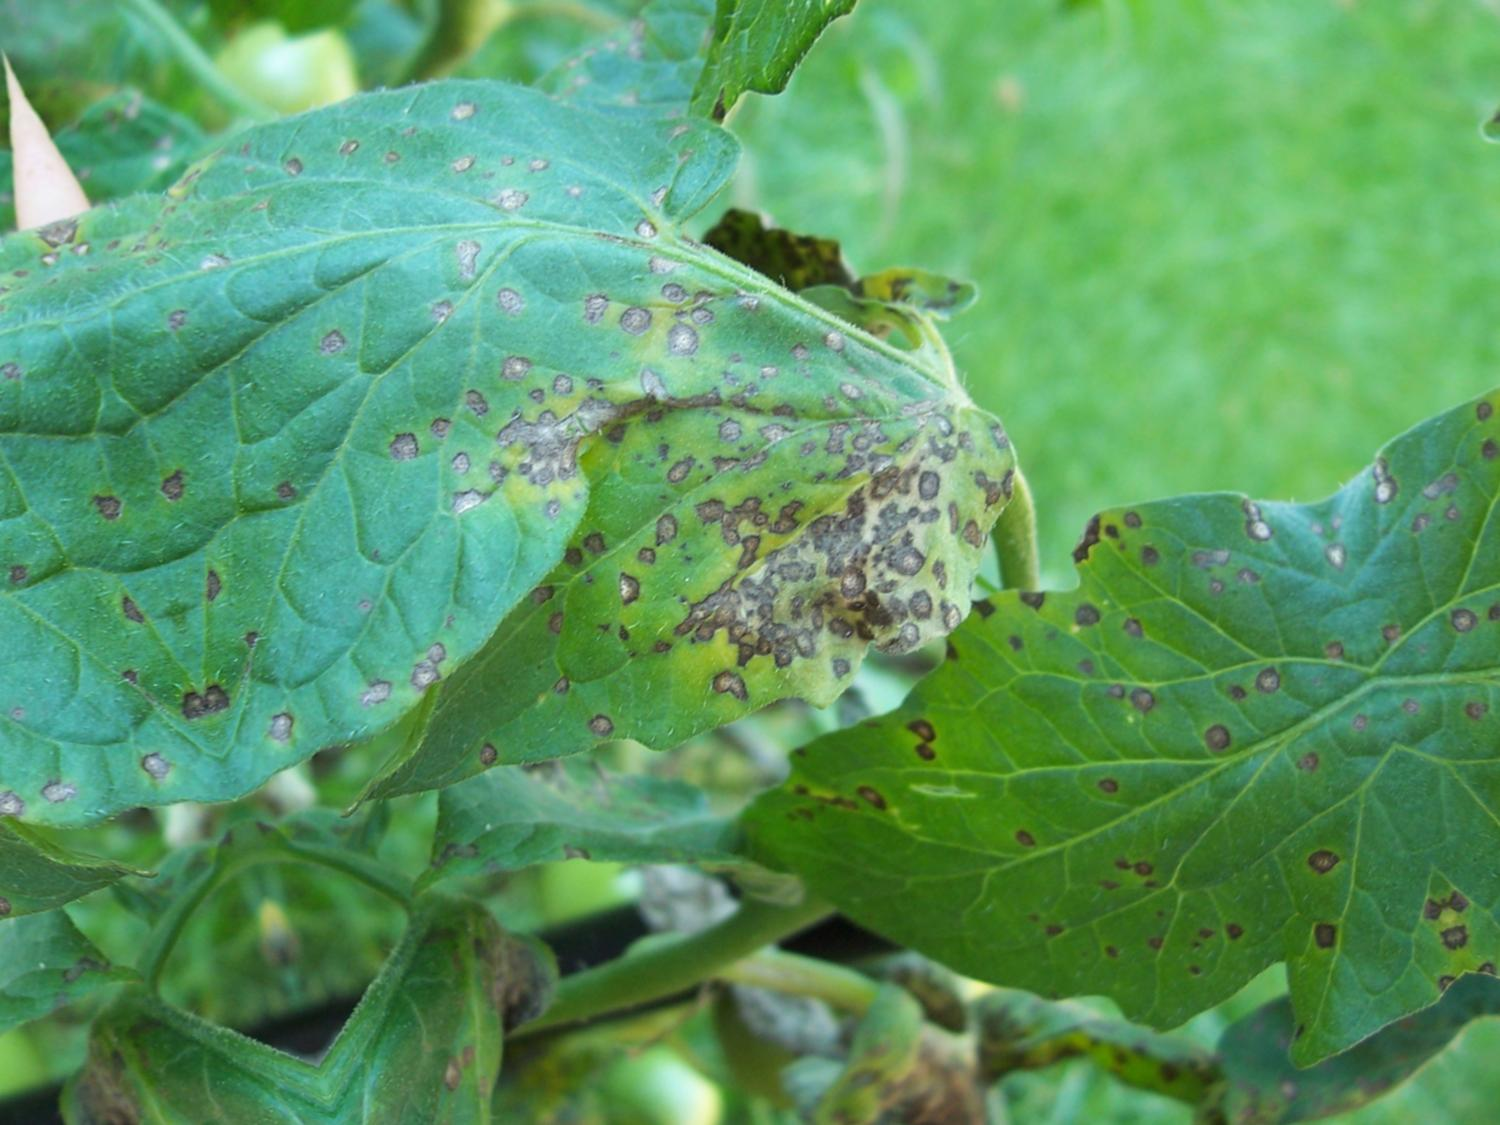Tomato Septoria leaf spot: (47, 0, 1069, 857), (646, 421, 1478, 1125)
